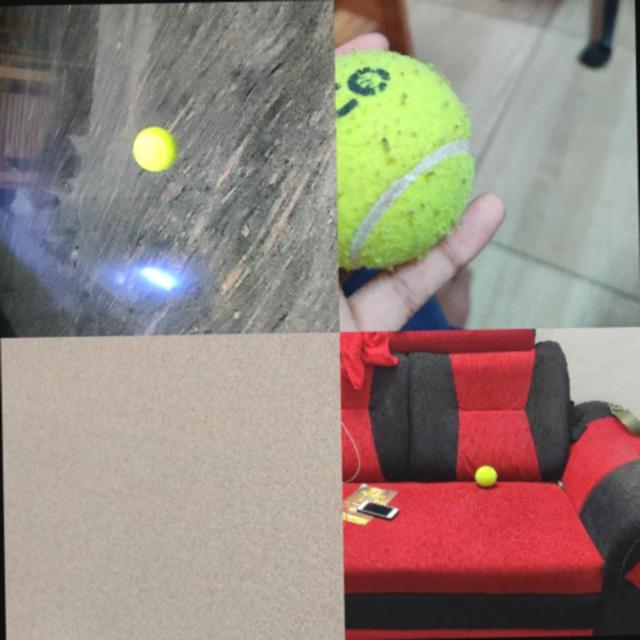Tennis Ball: (334, 46, 477, 270), (132, 126, 178, 172), (474, 465, 496, 486)
